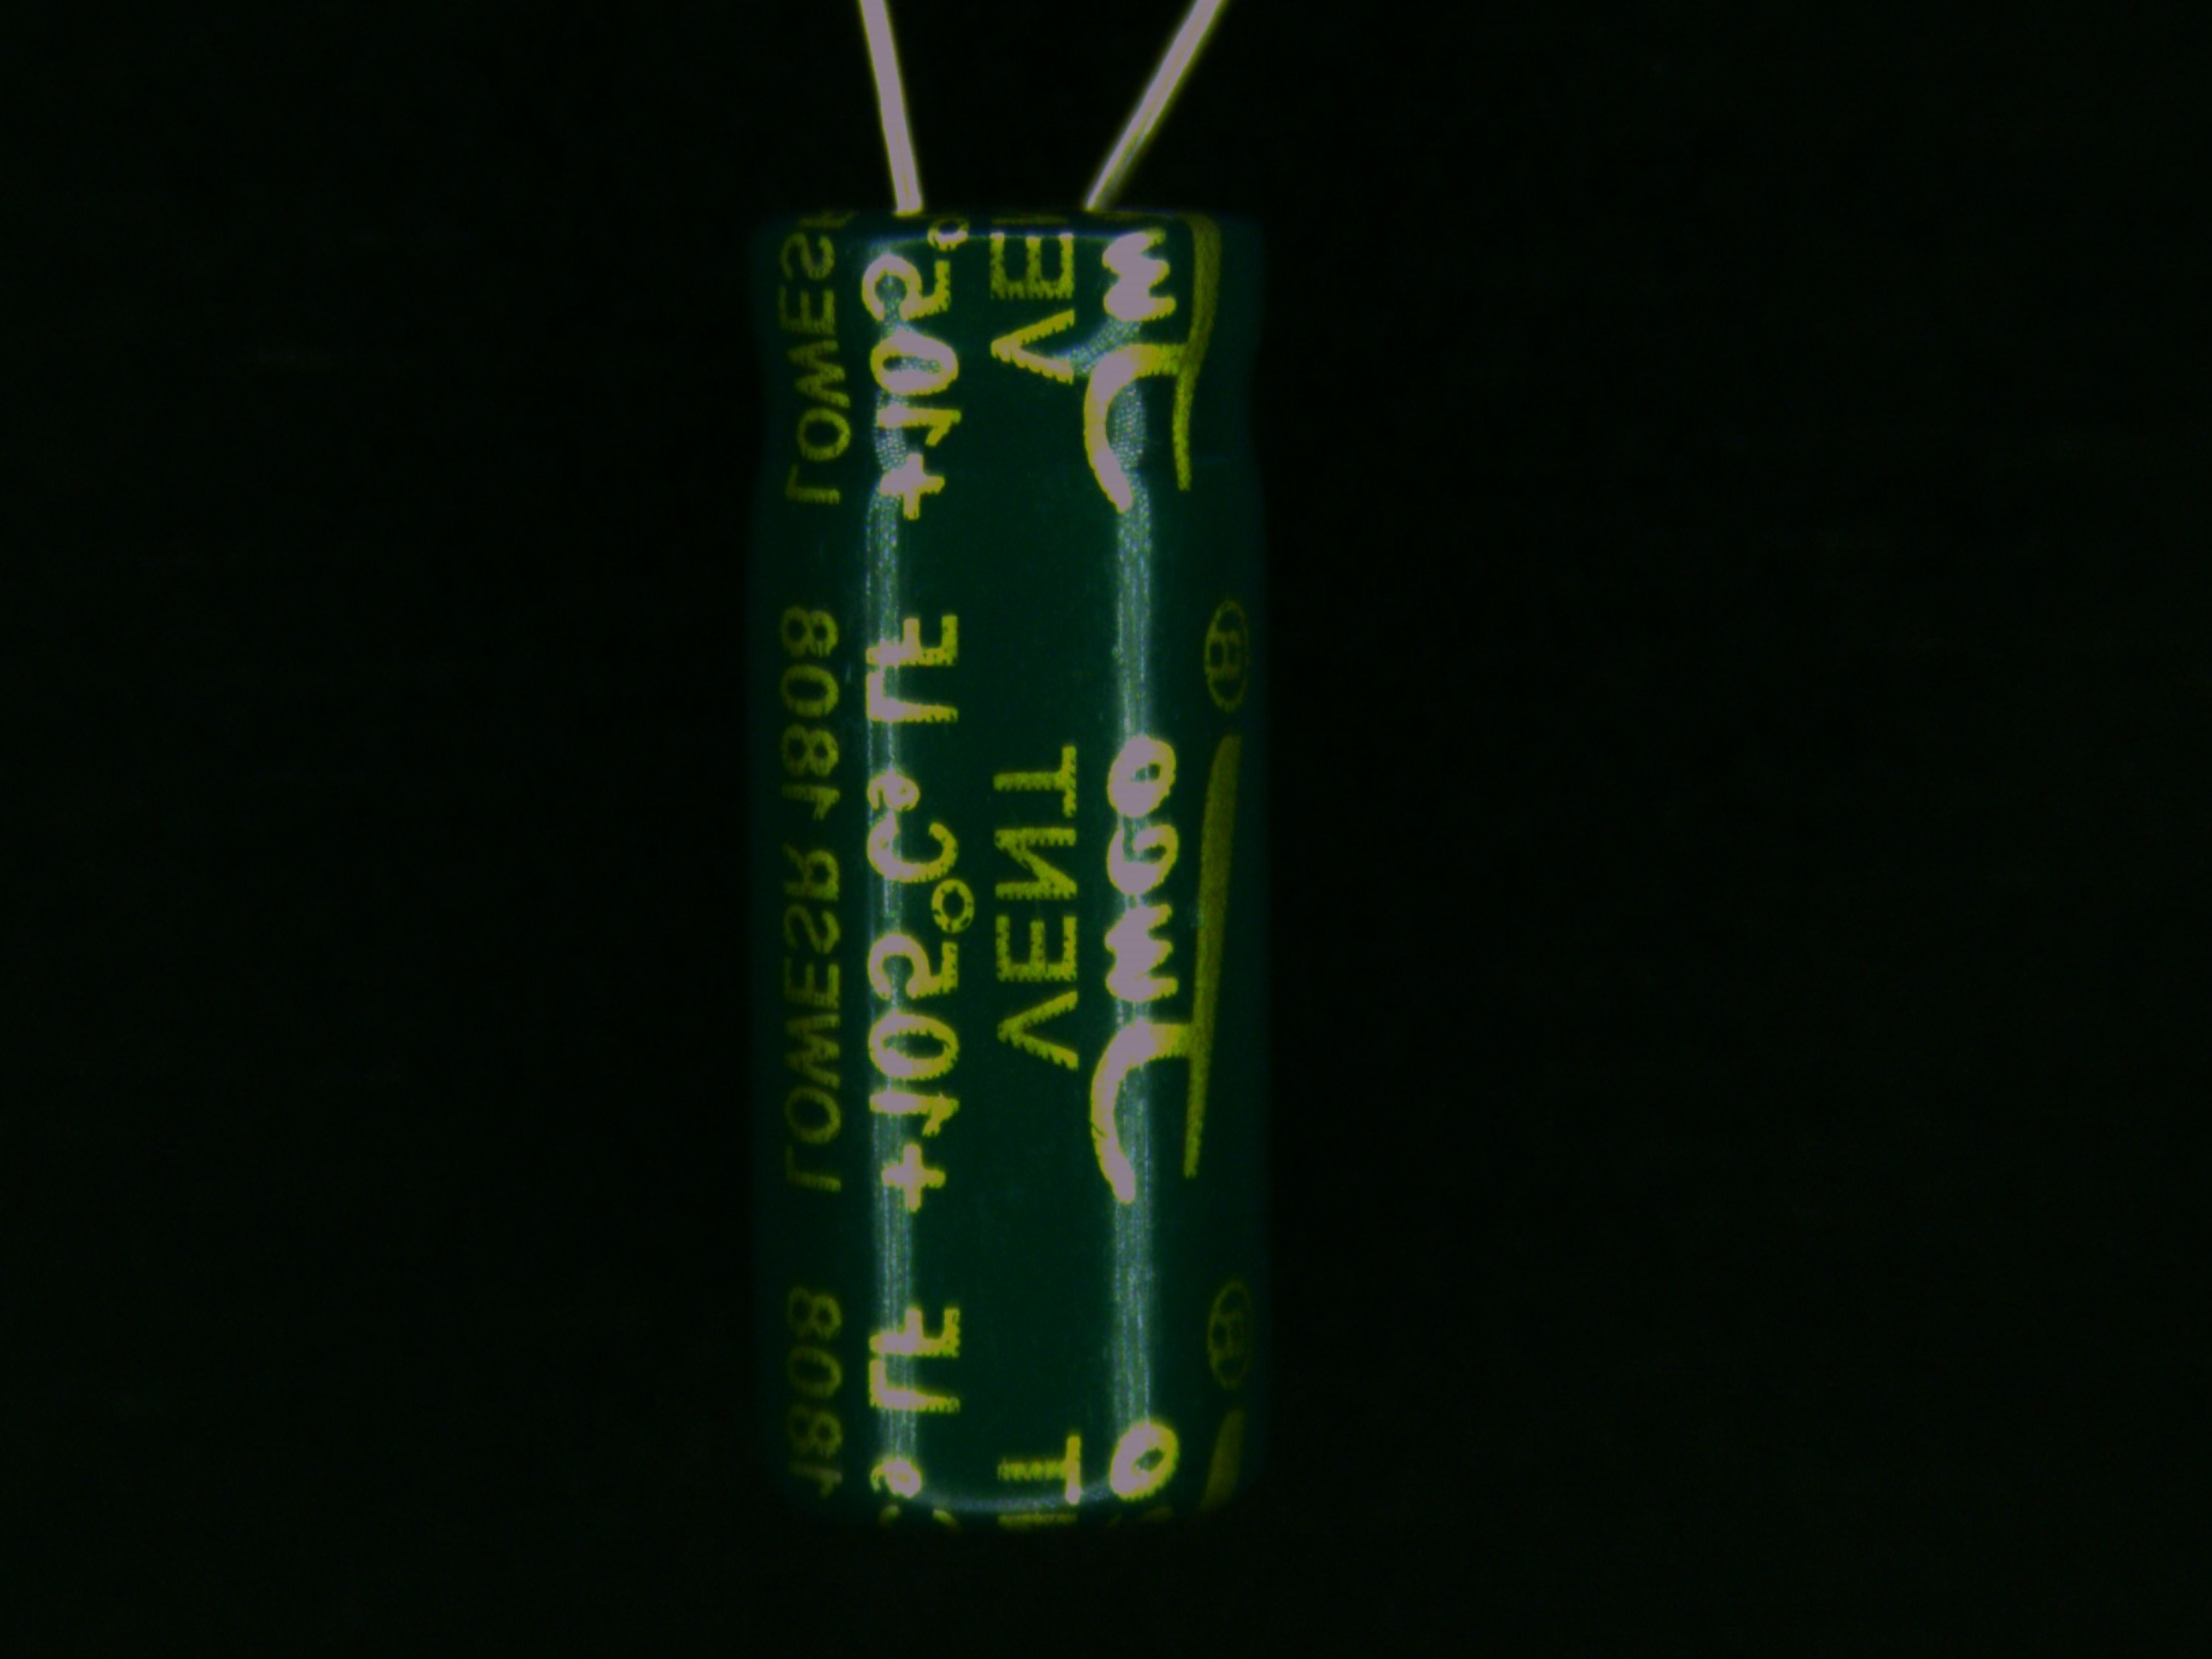c1: (742, 0, 1278, 1537)
